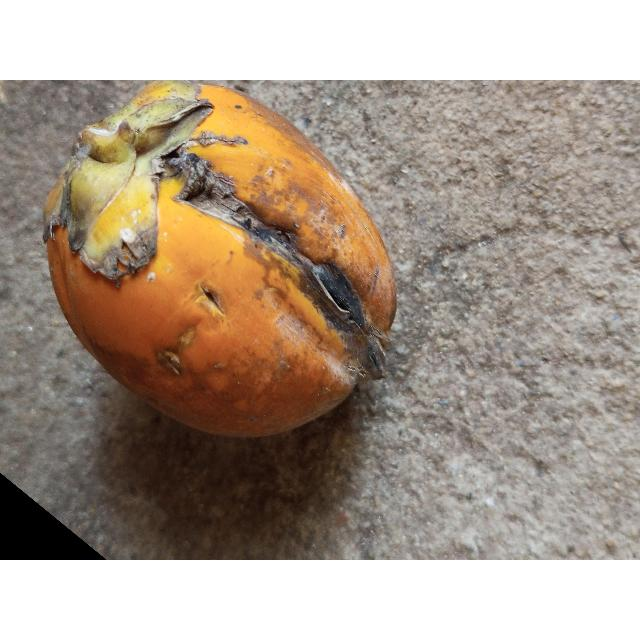damaged: (41, 80, 397, 440)
